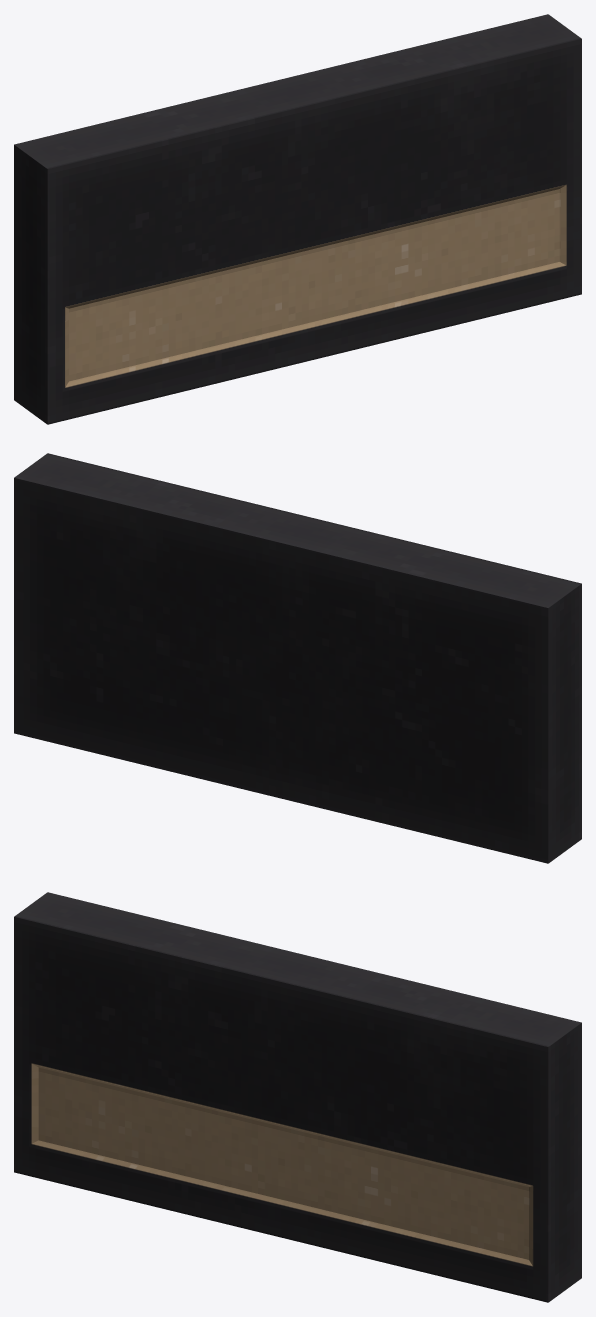
The model's file is Garage Clicker.glb.
3 views of the same model, one above another, from view 1: azimuth 30°, elevation 25°; view 2: azimuth 150°, elevation 25°; view 3: azimuth 330°, elevation 25° (orthographic).
Parts seen in each view (by area): view 1: pCube1; view 2: pCube1; view 3: pCube1.
Part boxes in pixels (x1,y1,x2,y2): pCube1: (14,14,581,424); pCube1: (14,453,581,863); pCube1: (14,892,581,1302).
Size of the model in its own units: 2.31 by 1.06 by 0.2522.
1 material, 1 textured.
